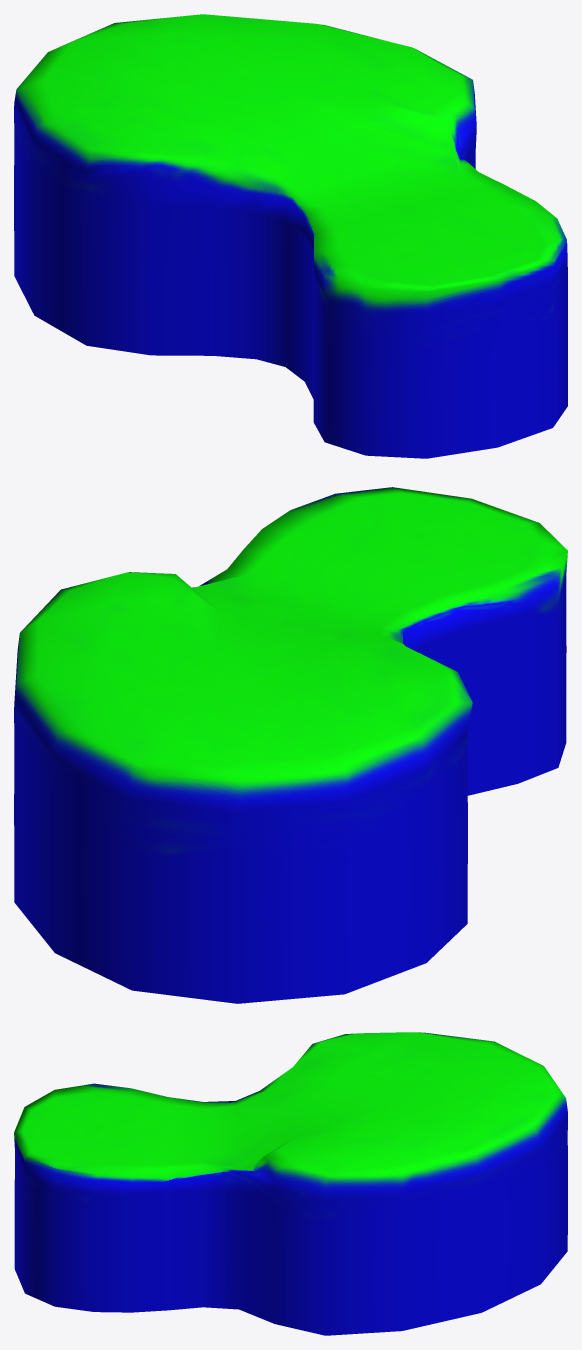
File: FootIslandShape.dae
3 views of the same model, one above another, from view 1: azimuth 30°, elevation 25°; view 2: azimuth 150°, elevation 25°; view 3: azimuth 270°, elevation 25° (orthographic). The views are drawn at different scales.
Visible parts, largest first — view 1: FootIsland; view 2: FootIsland; view 3: FootIsland.
Part boxes in pixels (x1,y1,x2,y2): FootIsland: (14,14,567,458); FootIsland: (14,487,567,1003); FootIsland: (14,1032,567,1335).
Bounding box in the file's own units: 79.14 × 40.71 × 122.
